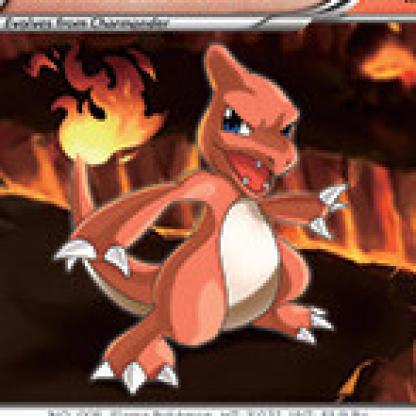Charmeleon: (31, 40, 379, 376)
